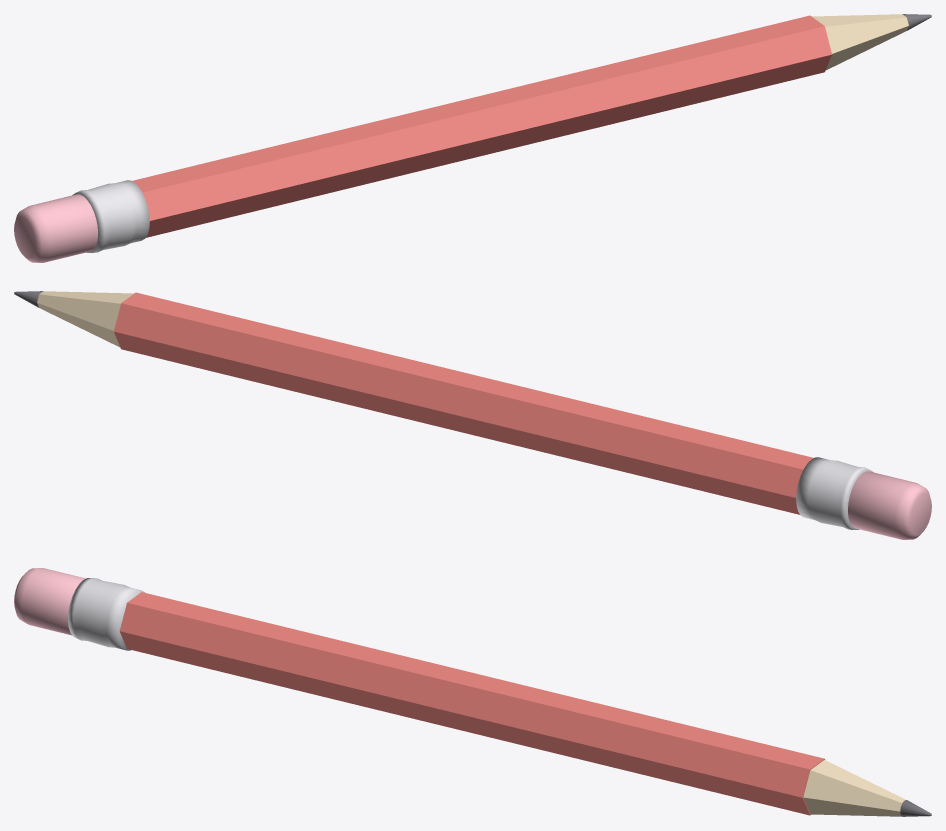
The model's file is StampOutPencil.glb.
The picture shows the model from 3 angles, top to bottom: view 1: azimuth 30°, elevation 25°; view 2: azimuth 150°, elevation 25°; view 3: azimuth 330°, elevation 25°; orthographic projection.
Parts seen in each view (by area): view 1: Body, Eraser, Ferrule, Wood; view 2: Body, Eraser, Ferrule, Wood; view 3: Body, Wood, Ferrule, Eraser.
Boxes of the visible parts, x1,y1,x2,y2 form: Body: (132,15,831,237); Eraser: (14,194,97,262); Ferrule: (72,180,149,252); Wood: (812,14,908,70); Body: (114,292,813,514); Eraser: (848,471,931,539); Ferrule: (796,457,873,529); Wood: (37,291,133,347); Body: (119,592,825,815); Wood: (803,760,905,816); Ferrule: (68,578,145,650); Eraser: (14,568,85,635).
Size of the model in its own units: 92.7 by 5.7 by 5.7.
